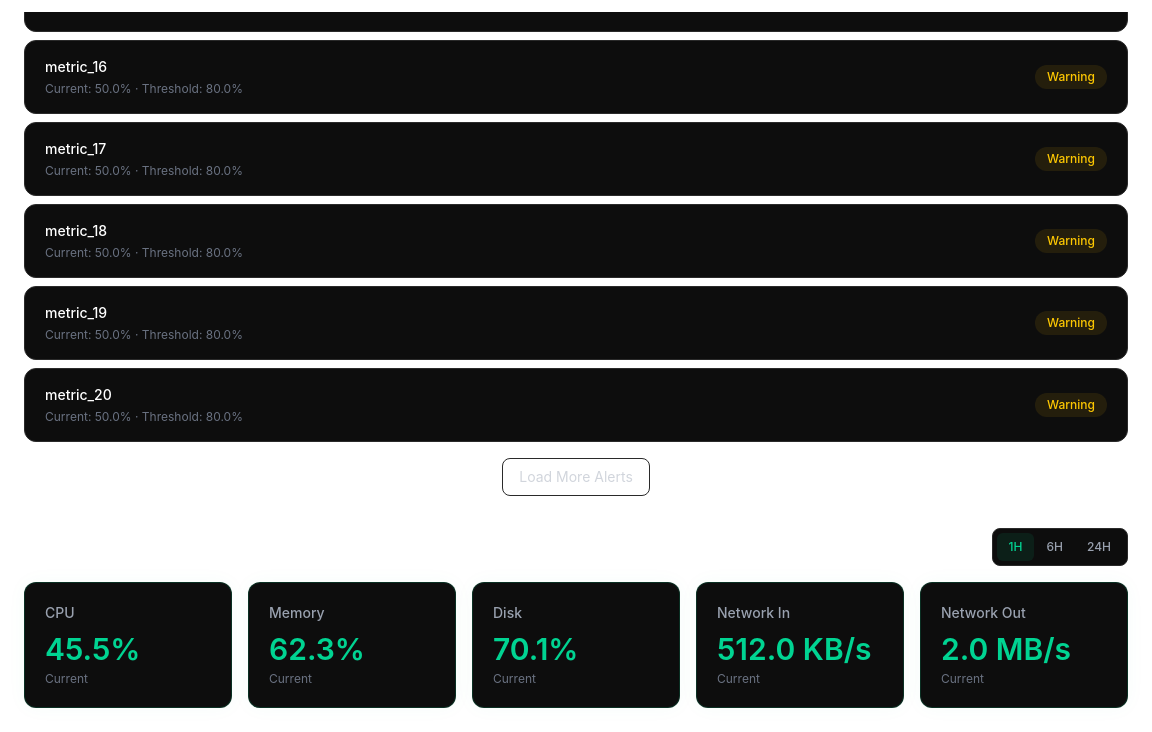
Scenario: HostDetails page › loads older alerts and removes duplicate alert IDs
(page scrolled)
Click the button "Load More Alerts". click: (576, 477)
box: 502,458 -> 650,496
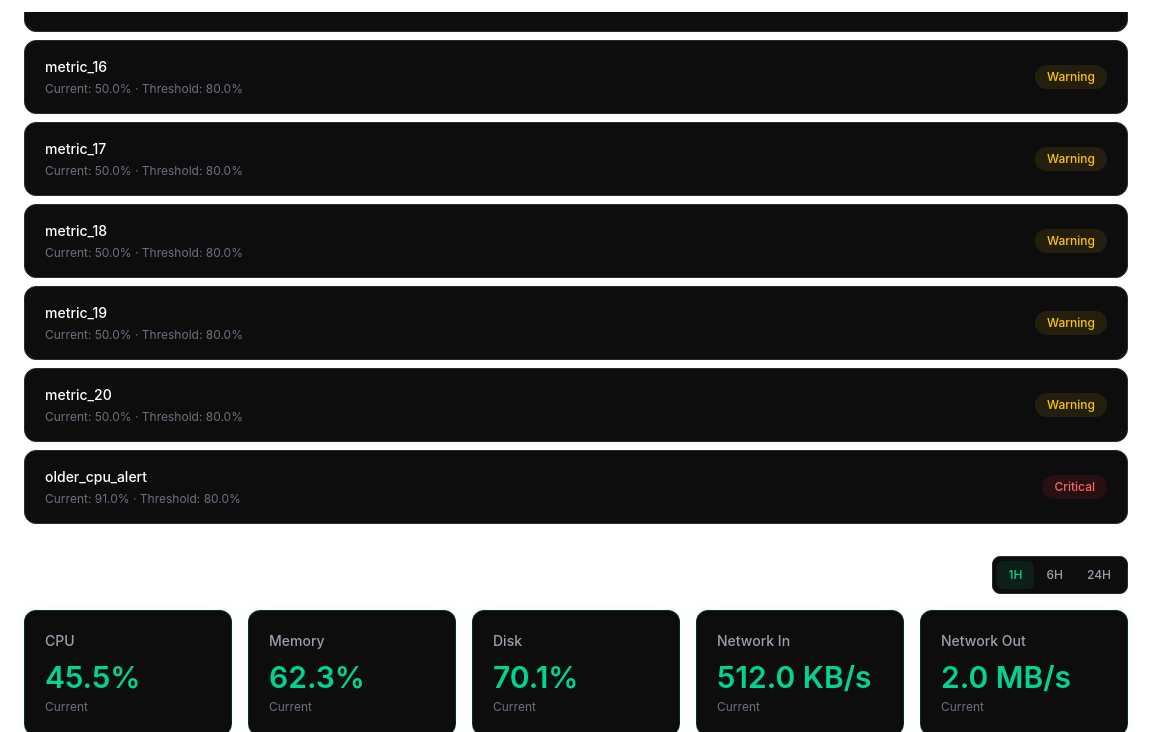
Now the text "older_cpu_alert" is shown, box 45,468 -> 147,485
Now the text "metric_20" is shown once, box 45,386 -> 112,403
